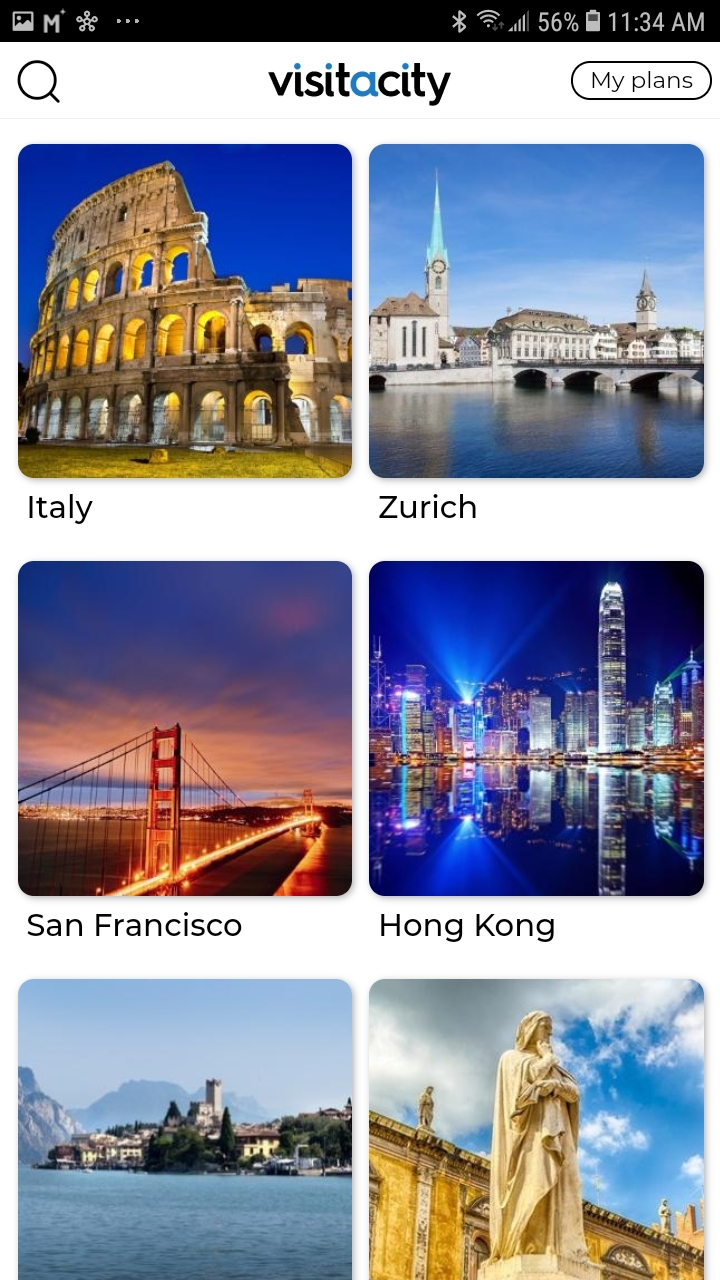Icon: (18, 61, 61, 104)
Image: (369, 561, 704, 896), (369, 144, 704, 479), (19, 145, 353, 479), (19, 562, 352, 897), (369, 979, 704, 1280), (19, 979, 352, 1280), (269, 63, 452, 107)
Text: (28, 912, 242, 937), (381, 913, 555, 943), (379, 493, 478, 520), (30, 494, 94, 525)
TextButton: (570, 61, 713, 101)
UpperTaskBar: (1, 1, 720, 43)
